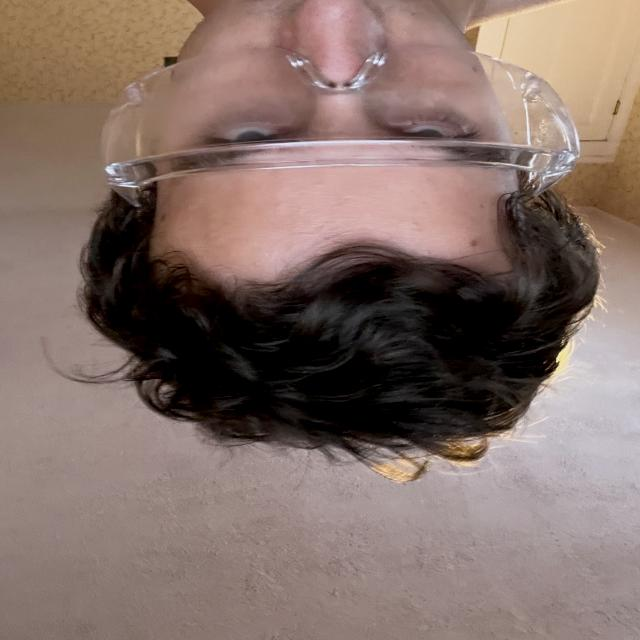Safety Glasses: (83, 33, 607, 211)
